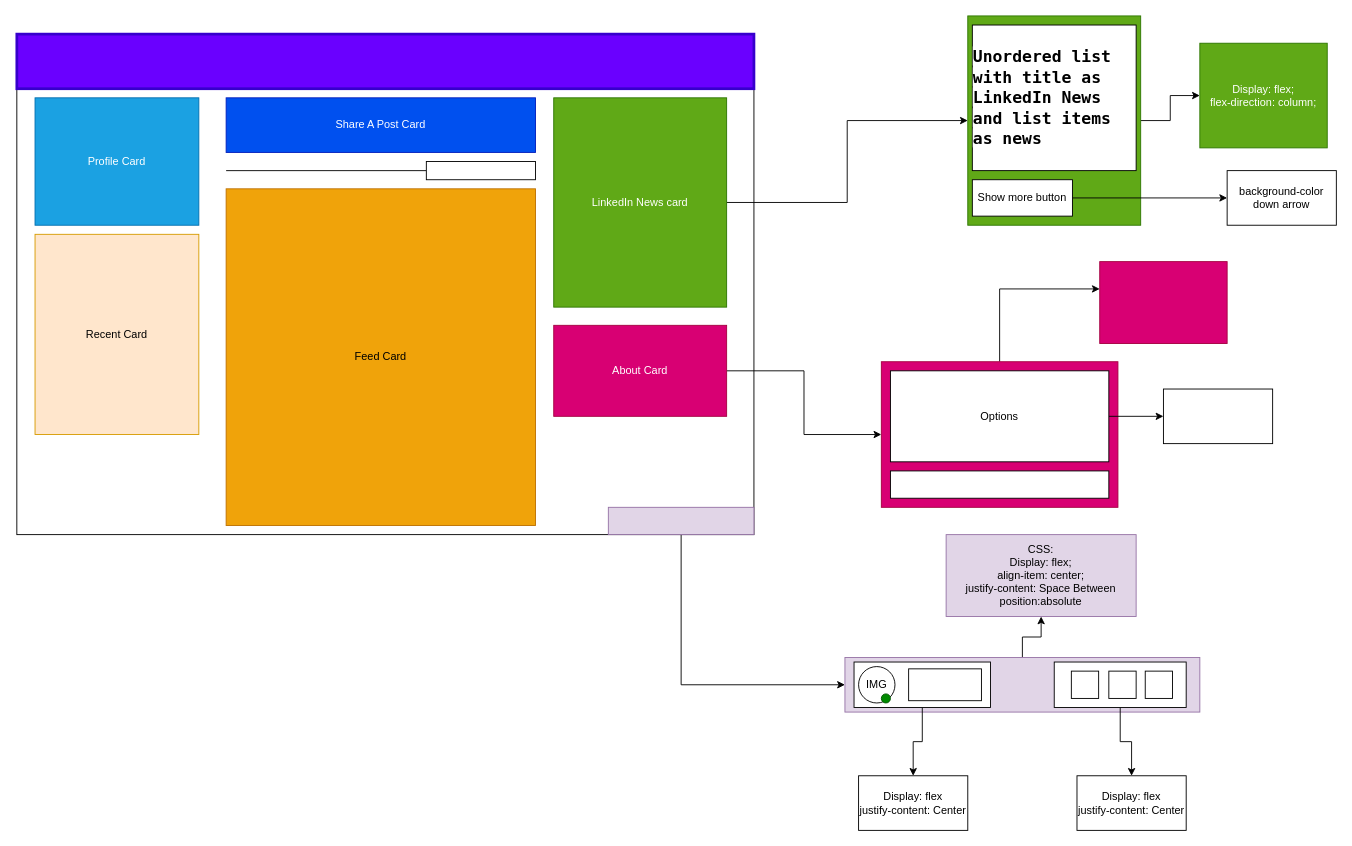
This 1352x846 diagram has some shape labels left out. Each missing label, with the box of its shape:
display: flex; flex-direction: column; position: sticky;: (1099, 261, 1227, 344)
display: flex; flex-wrap:wrap; width height to be specified: (1163, 388, 1273, 444)
Header: (15, 32, 755, 90)
LinkedIn logo and text: (890, 470, 1109, 498)
Messaging: (908, 668, 981, 701)
Messaging Card: (607, 506, 754, 535)
Sort By: (425, 161, 536, 180)
